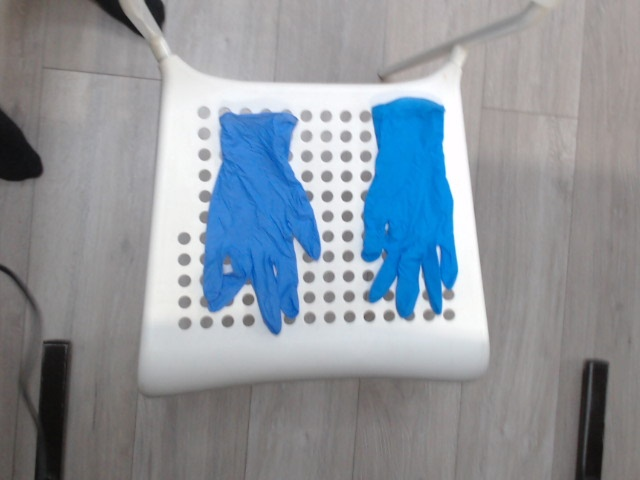medical_glove: (208, 115, 319, 330), (365, 103, 459, 315)
